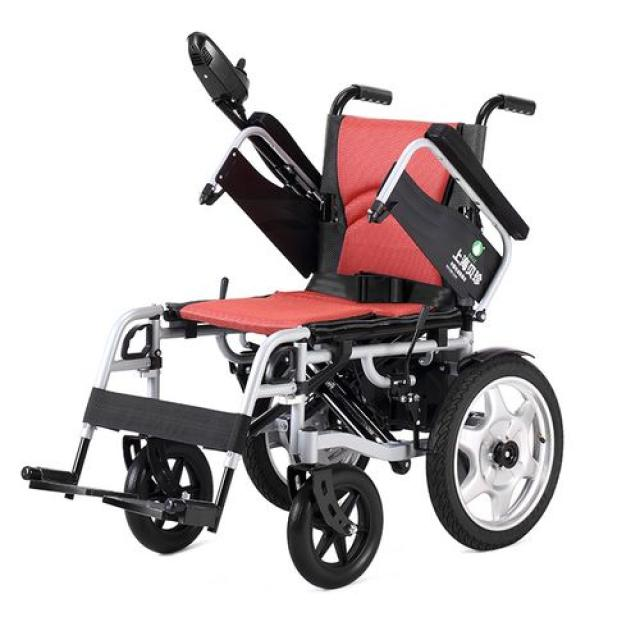wheelchairs: (16, 32, 588, 592)
